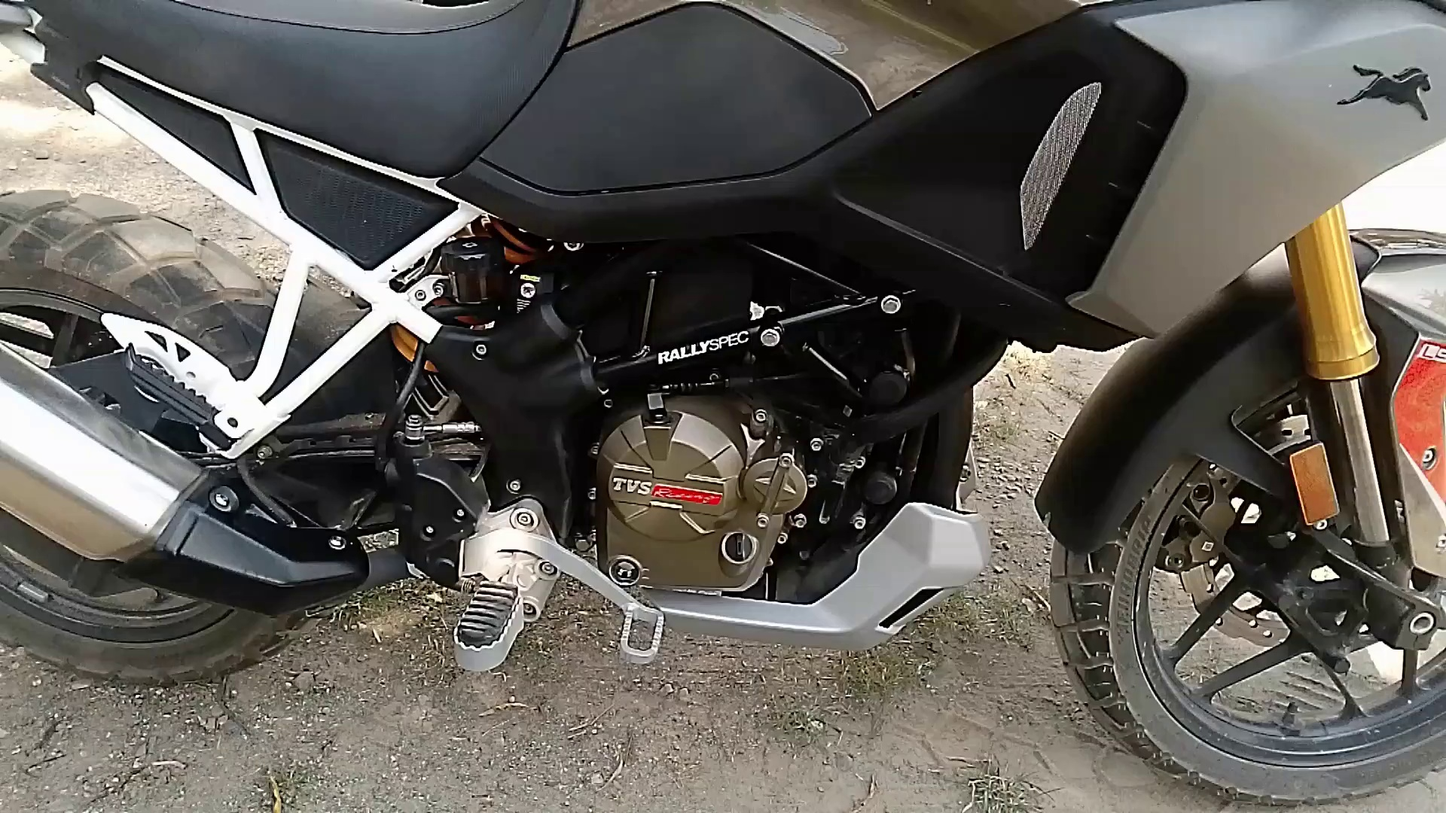engine: (591, 322, 811, 629)
oil_cap: (706, 510, 766, 580)
oil_marker: (595, 542, 661, 604)
